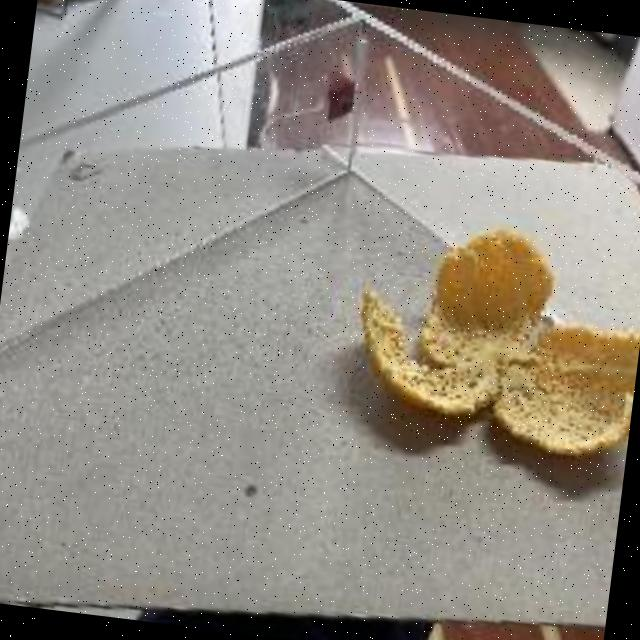orange-peel: (428, 218, 560, 338)
